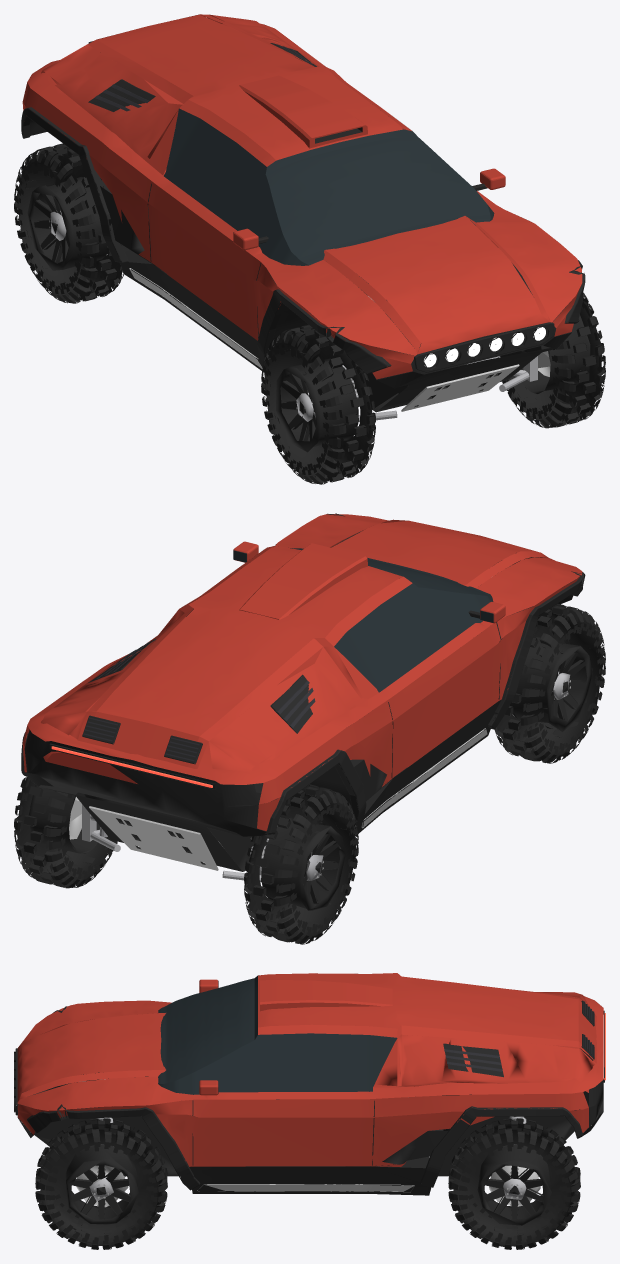
File: rally.glb
3 views of the same model, one above another, from view 1: azimuth 30°, elevation 25°; view 2: azimuth 150°, elevation 25°; view 3: azimuth 270°, elevation 25° (orthographic). The views are drawn at different scales.
Visible parts, largest first — view 1: Body, Glass_Front, Wheel_FR, Wheel_RR, Glass_R, Wheel_FL, Loose_RoofScoop, Loose_SkidPlateF, Glass_Front2; view 2: Body, Wheel_RR, Wheel_FR, Glass_R, Wheel_RL, Loose_RoofScoop, Loose_SkidPlateR, Glass_Front, Light_R1; view 3: Body, Wheel_RL, Wheel_FL, Glass_L, Glass_Front, Loose_RoofScoop.
Part boxes in pixels (<box>): Body: <box>21,14,585,422</box>; Glass_Front: <box>265,137,490,265</box>; Wheel_FR: <box>261,324,375,484</box>; Wheel_RR: <box>14,143,123,303</box>; Glass_R: <box>164,108,308,265</box>; Wheel_FL: <box>502,293,605,428</box>; Loose_RoofScoop: <box>239,75,367,148</box>; Loose_SkidPlateF: <box>401,364,519,411</box>; Glass_Front2: <box>266,129,417,173</box>; Body: <box>21,513,585,882</box>; Wheel_RR: <box>244,784,358,944</box>; Wheel_FR: <box>494,603,605,763</box>; Glass_R: <box>334,583,493,692</box>; Wheel_RL: <box>14,776,117,888</box>; Loose_RoofScoop: <box>239,543,367,619</box>; Loose_SkidPlateR: <box>89,806,218,870</box>; Glass_Front: <box>290,548,490,595</box>; Light_R1: <box>51,746,212,787</box>; Body: <box>14,973,604,1195</box>; Wheel_RL: <box>448,1118,580,1249</box>; Wheel_FL: <box>35,1118,167,1249</box>; Glass_L: <box>158,1033,397,1099</box>; Glass_Front: <box>158,978,254,1083</box>; Loose_RoofScoop: <box>260,980,392,1011</box>.
Bounding box in the file's own units: 2.1 × 1.8 × 4.65.
